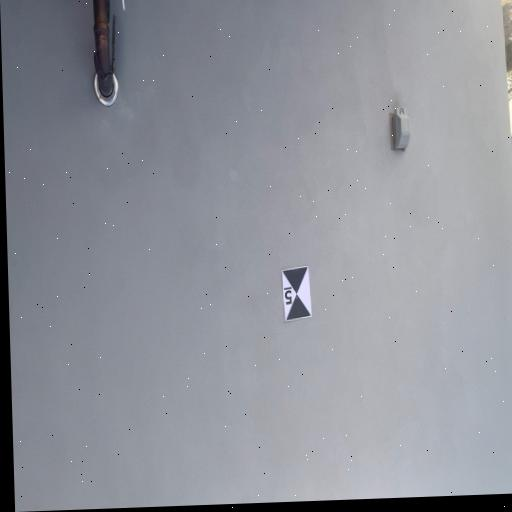target5: (282, 265, 312, 323)
